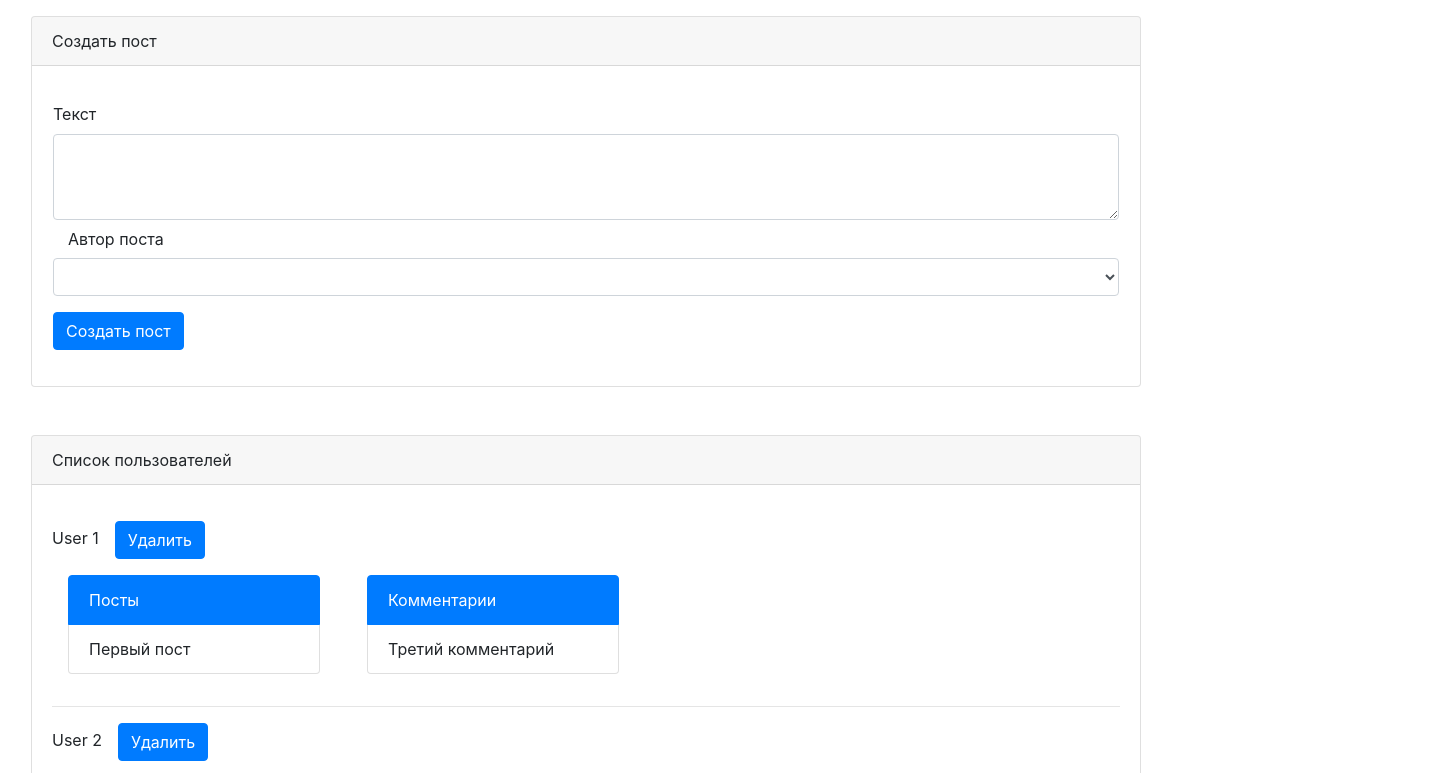
Work 1 › Remove user
Click the 1st button "Удалить".
click(160, 540)  # box [115,521,205,559]
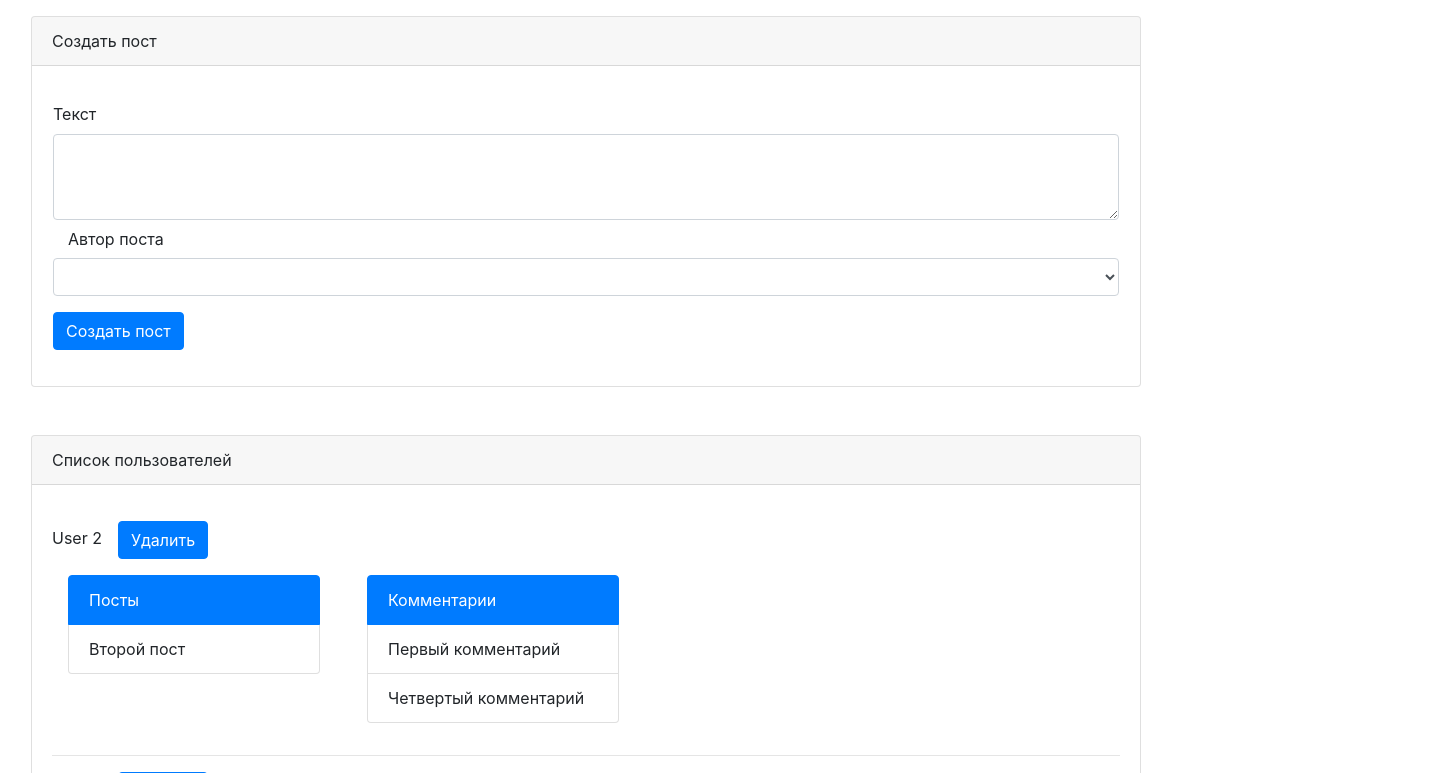
expect the list item "Третий комментарий" is gone: met
